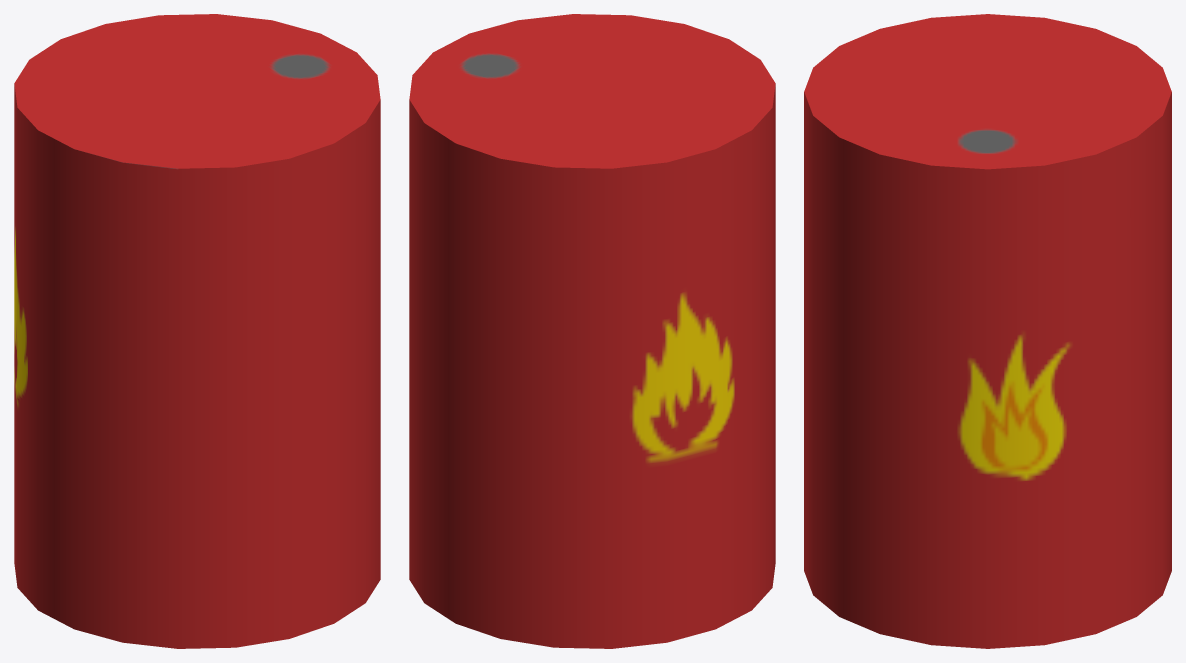
The model's file is Thung xang.fbx.
3 views of the same model, side by side, from view 1: azimuth 30°, elevation 25°; view 2: azimuth 150°, elevation 25°; view 3: azimuth 270°, elevation 25° (orthographic).
Visible parts, largest first — view 1: Thung_xang; view 2: Thung_xang; view 3: Thung_xang.
Part boxes in pixels (x1,y1,x2,y2): Thung_xang: (14, 14, 380, 648); Thung_xang: (409, 14, 775, 648); Thung_xang: (804, 14, 1171, 648).
Bounding box in the file's own units: 67.71 × 97.45 × 67.71.
1 material, 1 textured.
